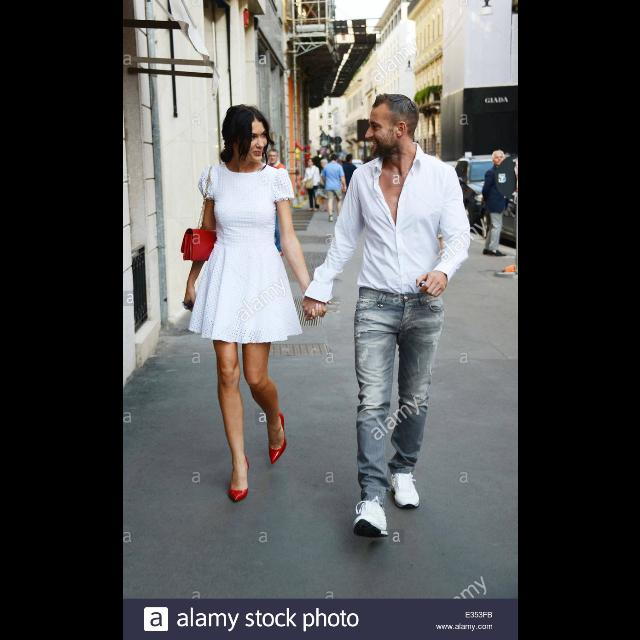head: (363, 93, 421, 159), (228, 106, 268, 162), (491, 150, 505, 167), (266, 148, 278, 164), (306, 158, 316, 168), (329, 154, 338, 164), (319, 160, 326, 168), (346, 155, 352, 163)
person: (298, 88, 474, 548), (173, 98, 334, 506), (252, 145, 290, 259), (479, 148, 513, 258), (318, 153, 347, 224), (337, 152, 357, 214), (297, 157, 319, 211), (316, 157, 334, 213)
